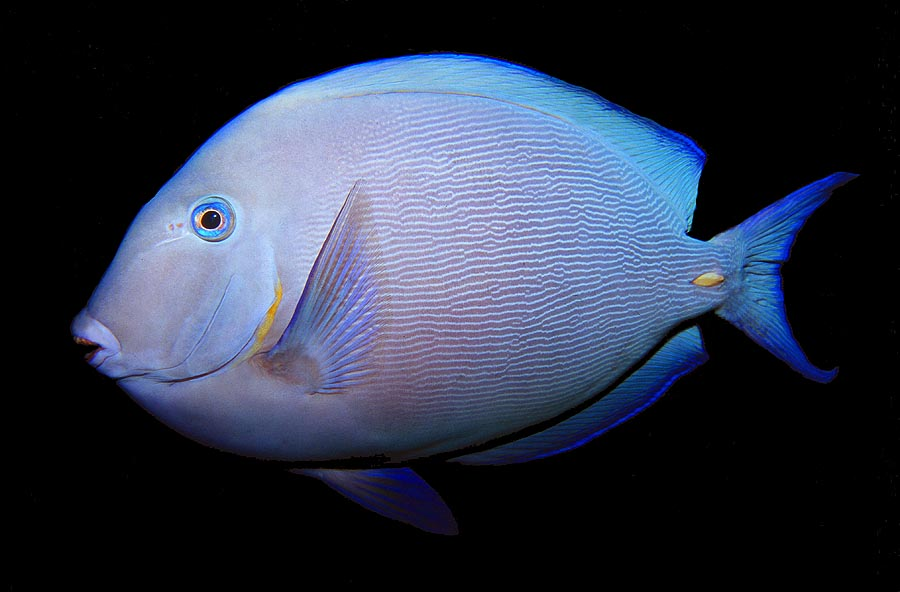Acanthurus_coeruleus: (59, 43, 862, 540)
